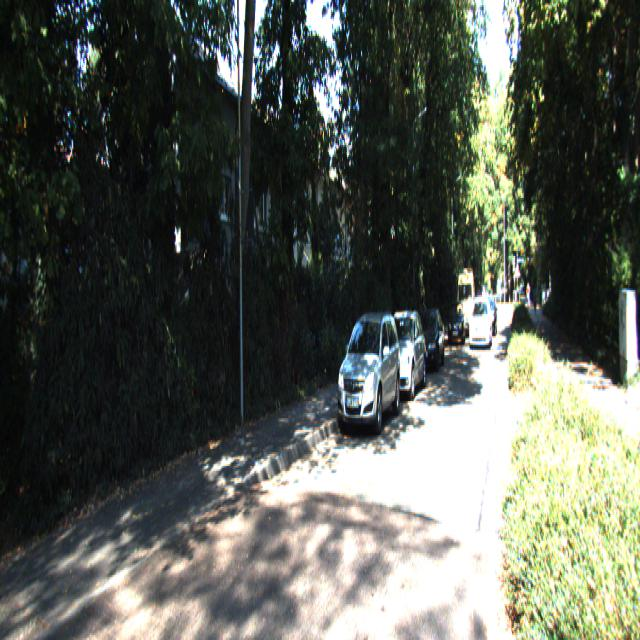Car: (336, 309, 402, 440), (378, 308, 427, 402), (416, 309, 446, 374), (456, 266, 476, 336), (469, 296, 493, 349), (448, 298, 466, 344)
